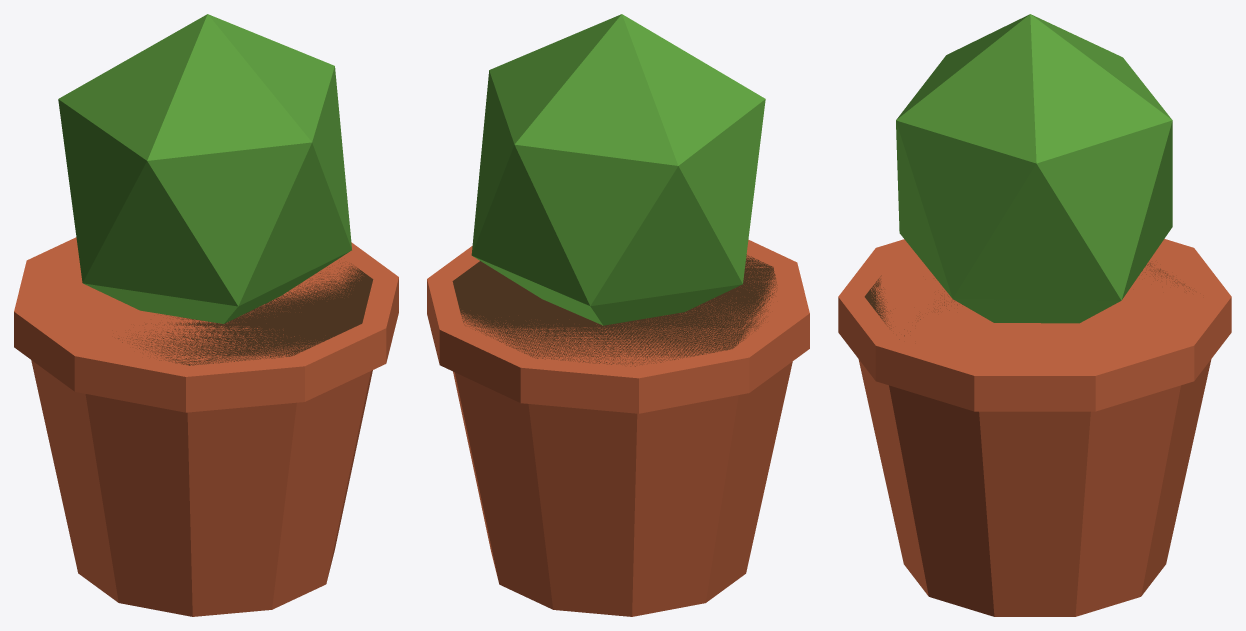
File: patio_terracotta_pot.glb
The picture shows the model from 3 angles, left to right: view 1: azimuth 30°, elevation 25°; view 2: azimuth 150°, elevation 25°; view 3: azimuth 270°, elevation 25°; orthographic projection.
Visible parts, largest first — view 1: terracotta_pot; view 2: terracotta_pot; view 3: terracotta_pot.
Boxes of the visible parts, left/top/right/bottom form: terracotta_pot: left=14, top=14, right=398, bottom=616; terracotta_pot: left=427, top=14, right=809, bottom=616; terracotta_pot: left=838, top=14, right=1231, bottom=616.
Size of the model in its own units: 0.5706 by 0.9248 by 0.6.
